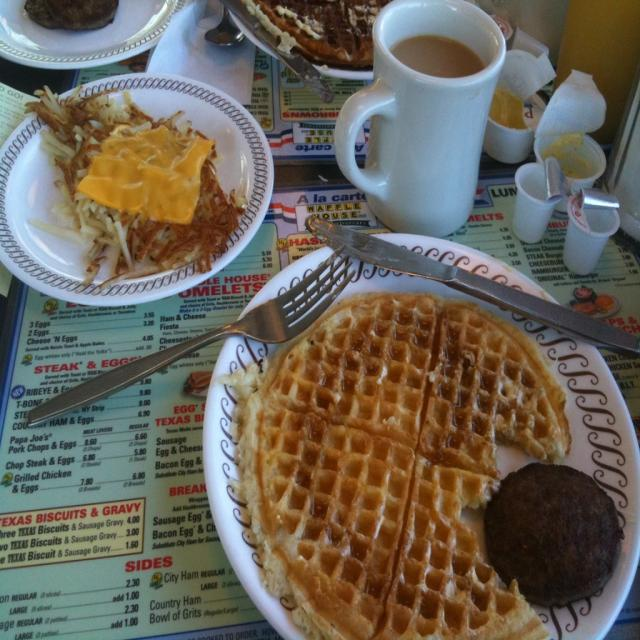Coffee: (344, 2, 506, 235)
Tea: (392, 36, 486, 77)
